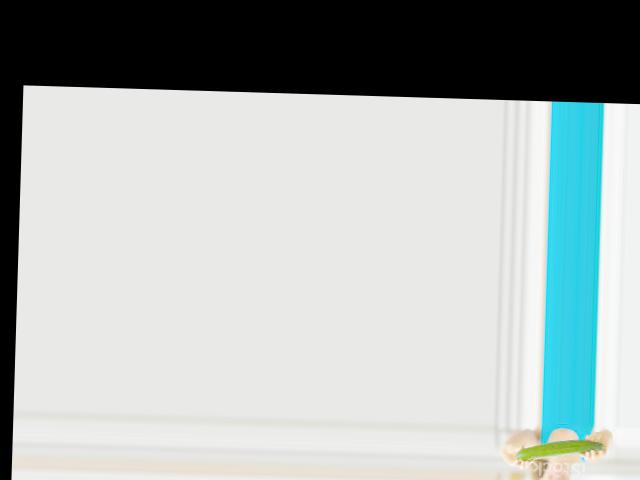cucumber: (514, 437, 605, 461)
